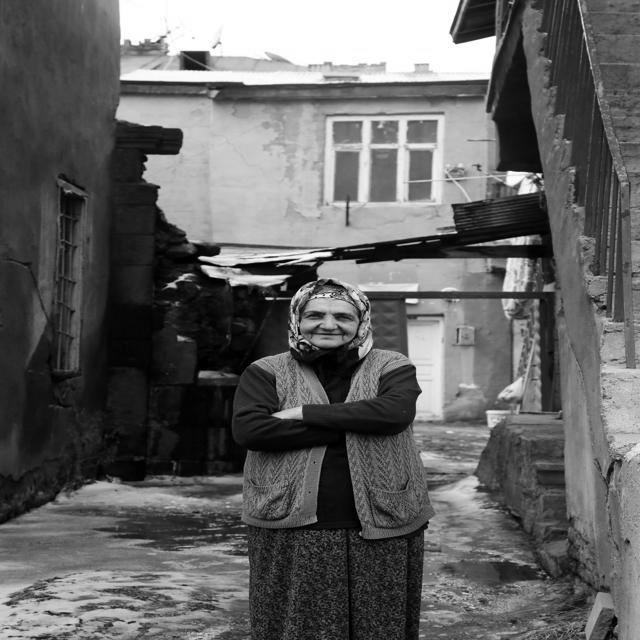Happiness: (295, 295, 362, 350)
